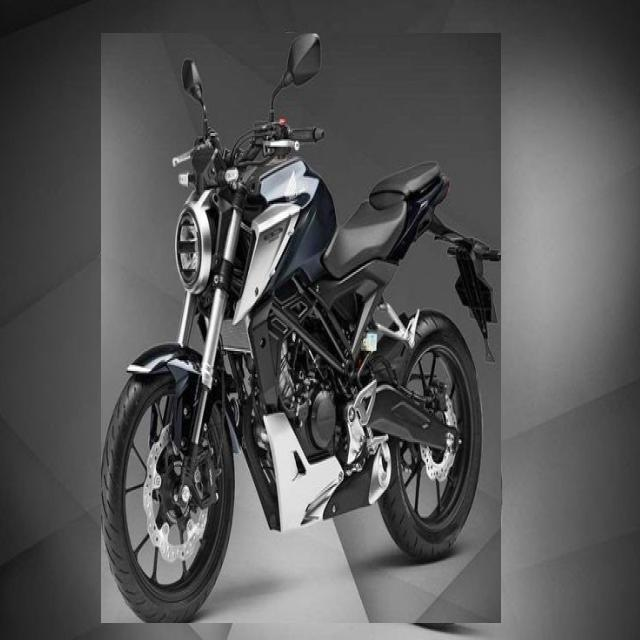motorcycle: (101, 34, 501, 623)
